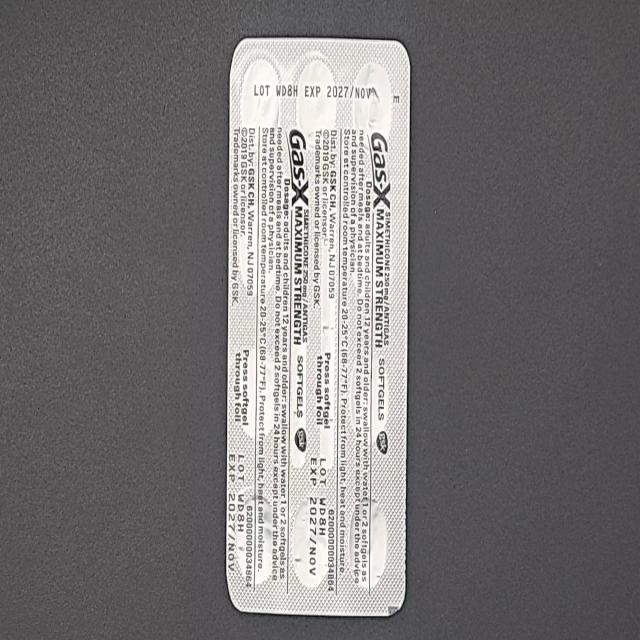no defect: (10, 19, 31, 69)
